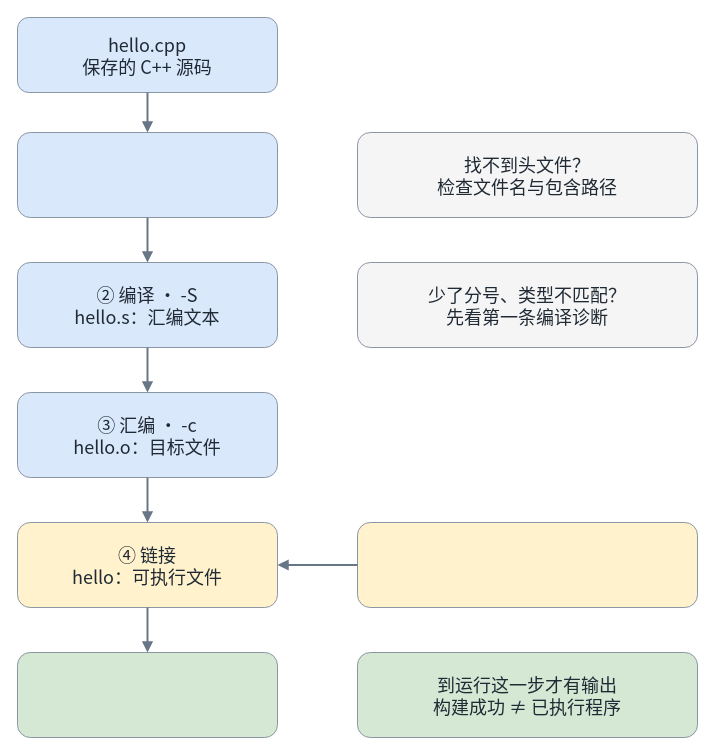
This 715x755 diagram has some shape labels left out. Each missing label, with the centre of its shape:
"① 预处理 · -E hello.ii：展开后的文本" belongs at [147,175].
"⑤ 运行 · ./hello 标准输出：Hello, C++!" belongs at [147,695].
"其他目标文件与所需库 由链接器解析符号引用" belongs at [527,565].
